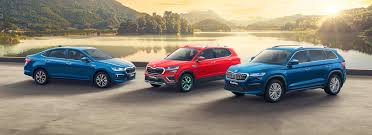car: (223, 45, 350, 103), (25, 45, 139, 91), (141, 45, 242, 93)
